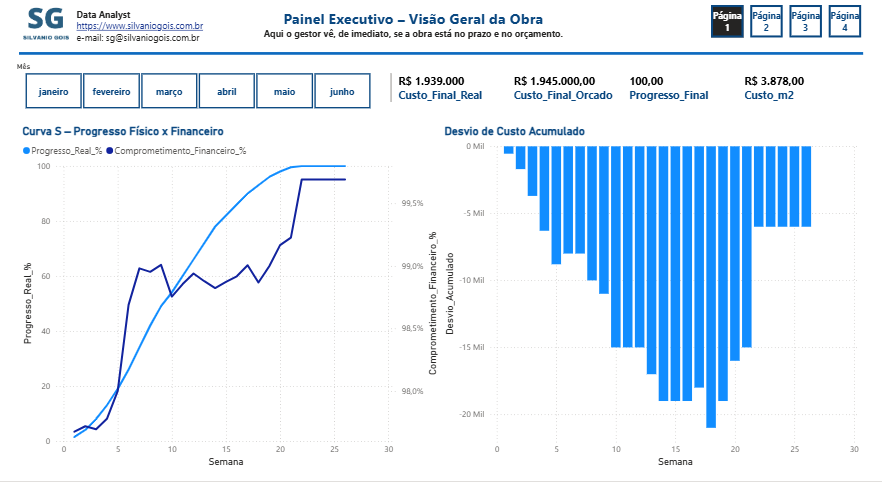

The dashboard page shown, as its layout file describes it:
{"tool":"powerbi","page":{"name":"Página 1","canvas":[1280,720],"ordinal":0},"visuals":[{"type":"image","box":[16,0,80,80],"z":0},{"type":"textbox","box":[96,16,208,64],"z":1000},{"type":"textbox","box":[320,0,560,80],"z":2000},{"type":"pageNavigator","box":[1040,16,224,48],"z":3000},{"type":"shape","box":[16,80,1248,16],"z":4000},{"type":"multiRowCard","fields":{"Values":["Medidas_Pag1.Custo_Final_Real","Medidas_Pag1.Custo_Final_Orcado","Medidas_Pag1.Progresso_Final","Medidas_Pag1.Custo_m2"]},"box":[560,112,704,64],"z":5000},{"type":"lineChart","title":"Curva S – Progresso Físico x Financeiro","fields":{"Category":["Obra.Semana"],"Y":["Sum(Obra.Progresso_Real_%)"],"Y2":["Medidas_Pag1.Comprometimento_Financeiro_%"]},"box":[16,192,624,512],"z":6000},{"type":"clusteredColumnChart","title":"Desvio de Custo Acumulado","fields":{"Category":["Obra.Semana"],"Y":["Medidas_Pag1.Desvio_Acumulado"]},"box":[640,192,624,512],"z":7000},{"type":"slicer","fields":{"Values":["Obra.Data.Variation.Hierarquia de datas.Mês"]},"box":[0,96,560,80],"z":8000}]}

Visuals, with their boxes in screenshot pixels (x1, y1, x2, y2), scaled from the page's 1280x720 canvas onto the 882x482 screenshot:
image: 11:0:66:54
textbox: 66:11:209:54
textbox: 220:0:606:54
pageNavigator: 717:11:871:43
shape: 11:54:871:64
multiRowCard - Medidas_Pag1.Custo_Final_Real x Medidas_Pag1.Custo_Final_Orcado: 386:75:871:118
"Curva S – Progresso Físico x Financeiro" lineChart: 11:129:441:471
"Desvio de Custo Acumulado" clusteredColumnChart: 441:129:871:471
slicer - Obra.Data.Variation.Hierarquia de datas.Mês: 0:64:386:118
